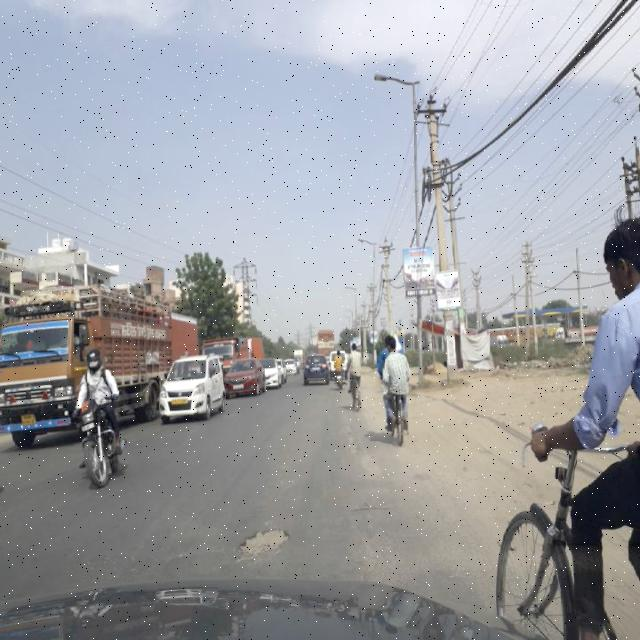D40: (231, 522, 297, 564)
